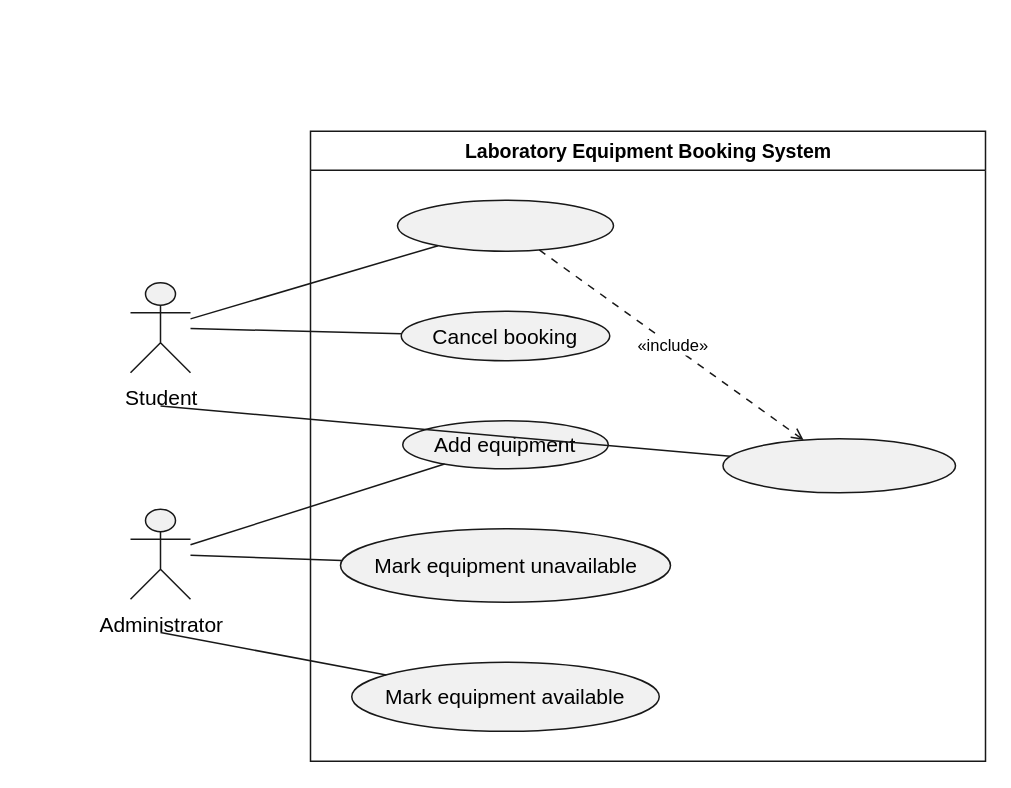
This 1011x788 diagram has some shape labels left out. The shapes that lost their labels are listed below. From the top down, each one's centre as x and y in pixels, then its label:
At point (505, 225): "Book equipment".
At point (839, 465): "Check availability".
